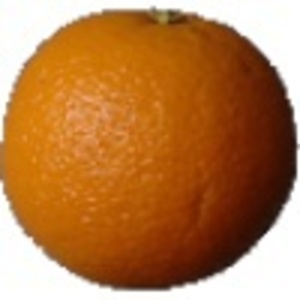laranja: (2, 2, 297, 294)
